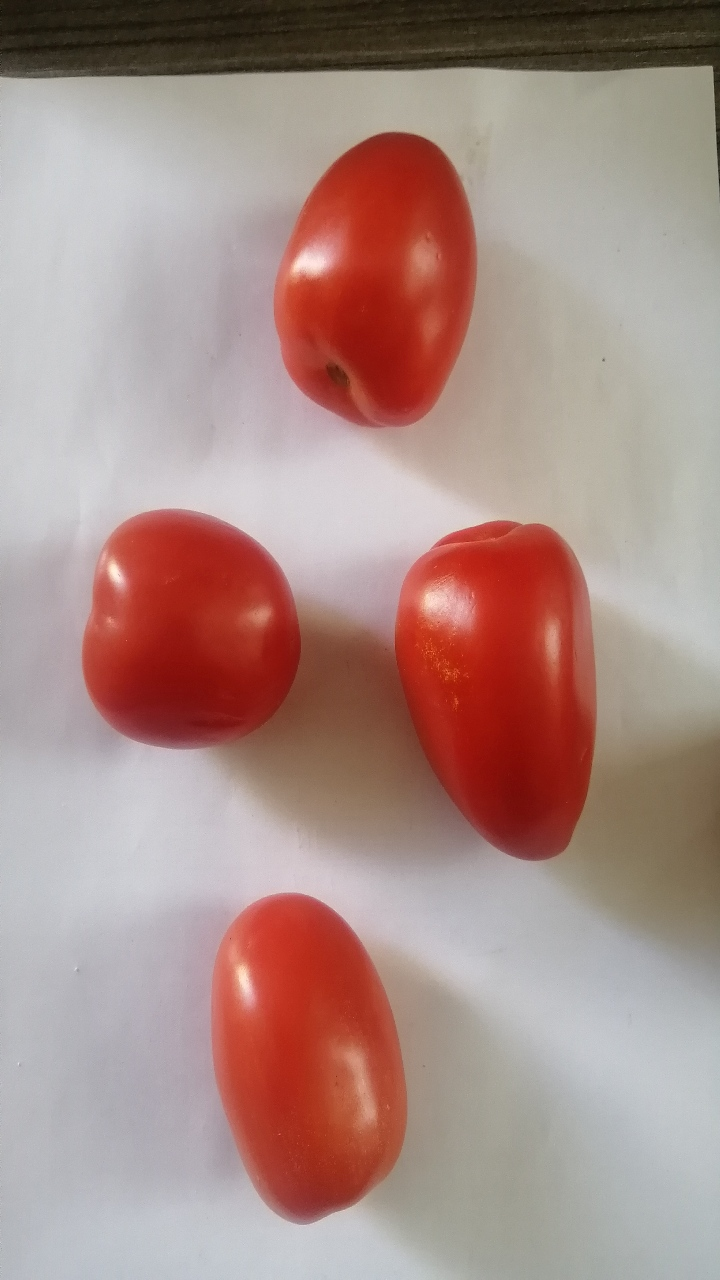tomateRojo: (368, 500, 631, 880), (195, 868, 426, 1243), (257, 114, 484, 446), (75, 485, 314, 765)
